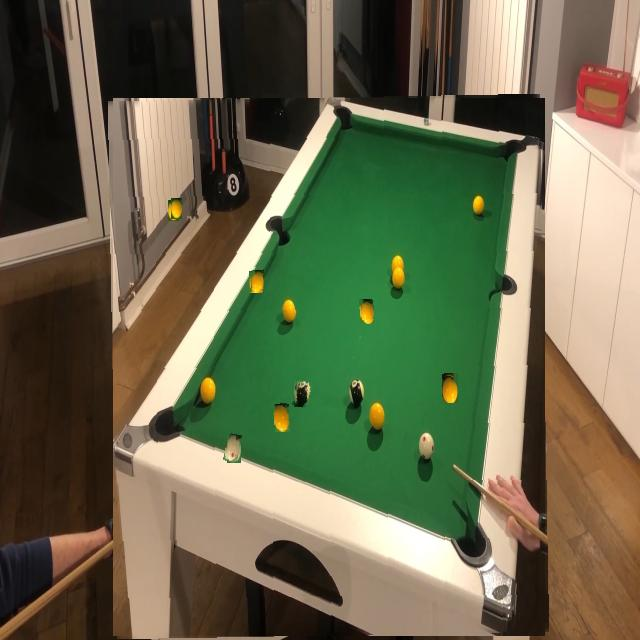Ball: (292, 380, 310, 408), (273, 404, 290, 432), (225, 434, 241, 463), (442, 376, 458, 403), (361, 300, 374, 324), (251, 270, 264, 292), (171, 198, 182, 219), (252, 258, 264, 275)
Billiard table: (111, 96, 547, 638)
